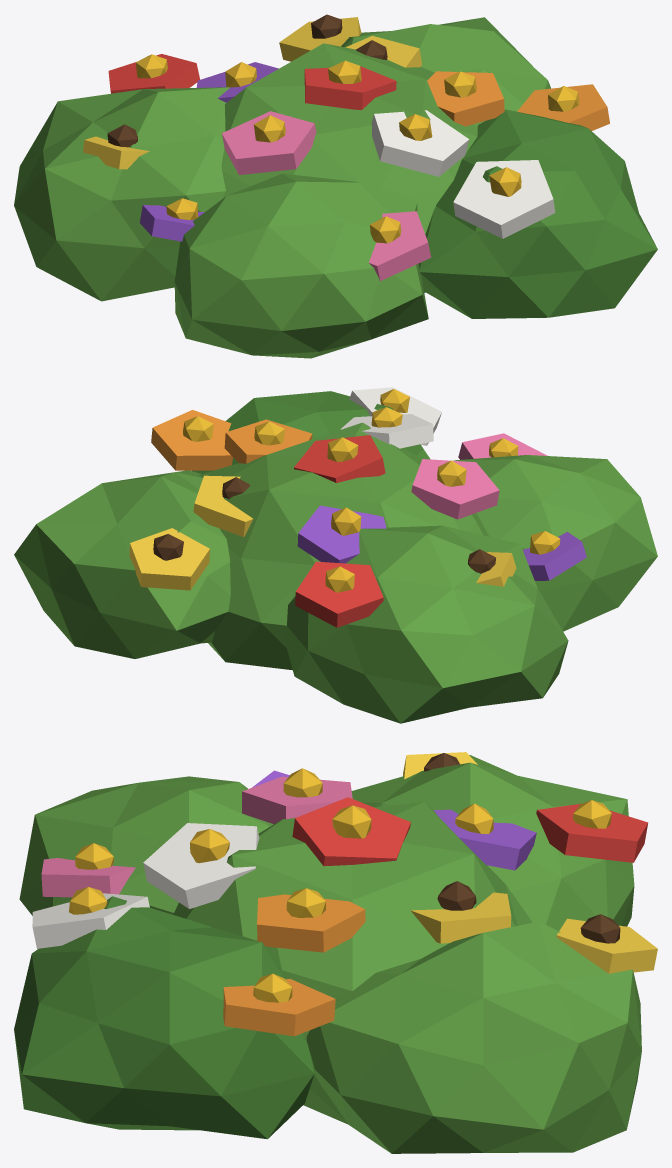
File: flowers_cluster.glb
3 views of the same model, one above another, from view 1: azimuth 30°, elevation 25°; view 2: azimuth 150°, elevation 25°; view 3: azimuth 270°, elevation 25° (orthographic). The views are drawn at different scales.
Parts seen in each view (by area): view 1: flowers_cluster; view 2: flowers_cluster; view 3: flowers_cluster.
Boxes of the visible parts, bbox=[...] form: flowers_cluster: bbox=[14, 14, 657, 358]; flowers_cluster: bbox=[14, 387, 657, 723]; flowers_cluster: bbox=[14, 752, 657, 1153].
Size of the model in its own units: 1.16 by 0.3955 by 0.9854.
